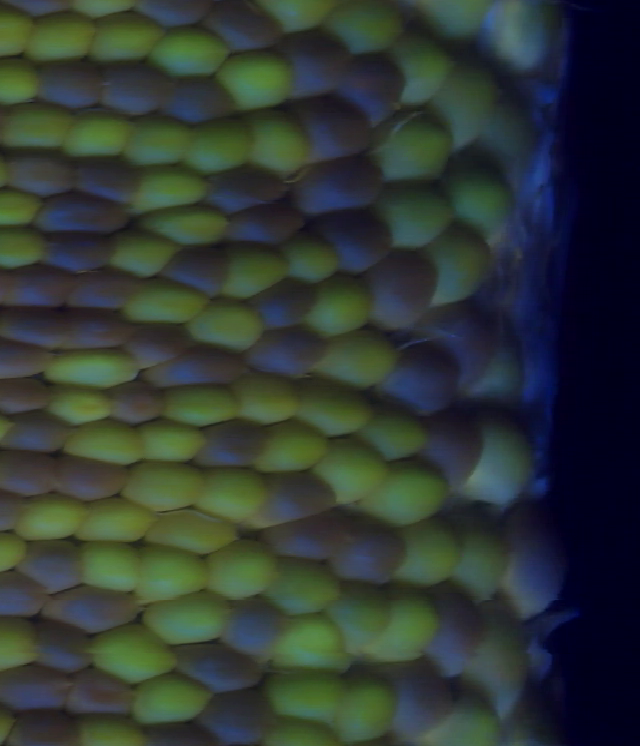fluorescent: (467, 404, 550, 532), (80, 615, 185, 695), (368, 171, 463, 257), (363, 452, 460, 533), (369, 107, 459, 194), (437, 151, 521, 243), (465, 601, 535, 711), (415, 219, 498, 308), (432, 46, 502, 151), (482, 1, 570, 84), (308, 433, 397, 513), (139, 586, 244, 652), (194, 534, 287, 608), (317, 323, 406, 400), (452, 501, 516, 607), (368, 578, 446, 663), (212, 42, 298, 119), (127, 664, 221, 734), (113, 453, 214, 518), (321, 578, 403, 658), (301, 270, 380, 353), (324, 667, 407, 746), (268, 611, 363, 680), (258, 548, 349, 620), (233, 106, 320, 181), (389, 23, 463, 110), (141, 17, 234, 86), (260, 661, 354, 728), (477, 74, 539, 174), (389, 516, 470, 592), (121, 539, 214, 603), (291, 374, 377, 443), (143, 503, 246, 560), (113, 272, 217, 328), (177, 295, 270, 357), (97, 224, 192, 284), (55, 413, 153, 471), (81, 8, 171, 71), (38, 342, 148, 393), (188, 465, 274, 530), (477, 309, 529, 416), (118, 105, 201, 172), (319, 1, 413, 60), (227, 366, 310, 432), (183, 113, 263, 181), (132, 198, 234, 251), (18, 4, 101, 69), (60, 102, 143, 167), (213, 239, 296, 303), (70, 494, 162, 551), (69, 536, 150, 599), (7, 490, 98, 545), (126, 165, 219, 218), (361, 396, 432, 465), (426, 688, 510, 746), (0, 97, 81, 157), (156, 381, 246, 434), (271, 227, 344, 289), (128, 416, 212, 468), (36, 380, 117, 430), (0, 610, 52, 680), (0, 220, 57, 276), (66, 710, 149, 746), (252, 711, 337, 746), (0, 55, 49, 113), (0, 180, 48, 236), (0, 1, 42, 62), (0, 525, 38, 581)
nonfluorescent: (498, 492, 575, 624), (367, 655, 462, 745), (239, 461, 344, 540), (282, 154, 393, 228), (324, 504, 413, 594), (362, 244, 447, 334), (422, 577, 492, 685), (307, 199, 400, 280), (380, 332, 467, 417), (413, 402, 491, 495), (281, 90, 377, 165), (426, 296, 505, 387), (260, 496, 364, 564), (265, 23, 358, 99), (329, 47, 413, 128), (134, 340, 251, 398), (86, 54, 182, 122), (162, 636, 267, 697), (190, 685, 287, 746), (27, 189, 138, 241), (241, 323, 337, 383), (41, 581, 141, 638), (192, 411, 279, 474), (215, 593, 291, 665), (32, 224, 122, 284), (45, 450, 139, 507), (152, 239, 236, 302), (158, 71, 244, 132), (24, 53, 111, 112), (0, 142, 83, 203), (199, 161, 290, 216), (24, 613, 99, 678), (200, 1, 287, 57), (65, 149, 144, 209), (12, 533, 88, 595), (0, 658, 82, 715), (246, 277, 326, 334), (0, 261, 82, 316), (60, 668, 145, 721), (221, 197, 307, 249), (118, 318, 200, 371), (58, 266, 145, 315), (0, 404, 77, 458), (0, 444, 70, 502), (50, 310, 141, 354), (99, 377, 168, 430), (126, 1, 224, 36), (0, 565, 57, 624), (0, 707, 86, 746), (0, 336, 63, 383), (0, 372, 57, 422), (0, 483, 32, 539)
